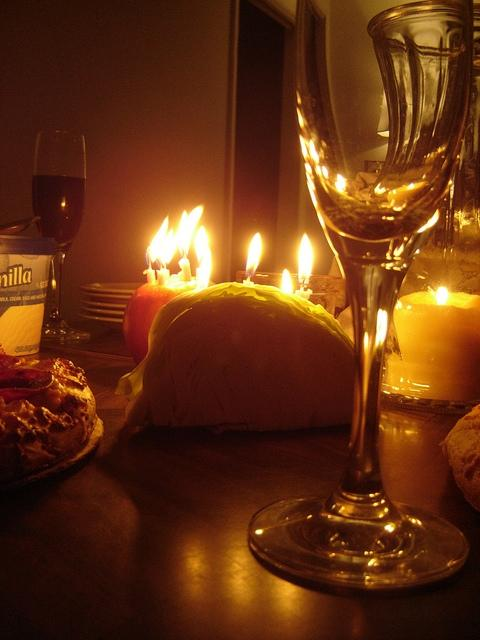apple: (123, 274, 216, 366)
